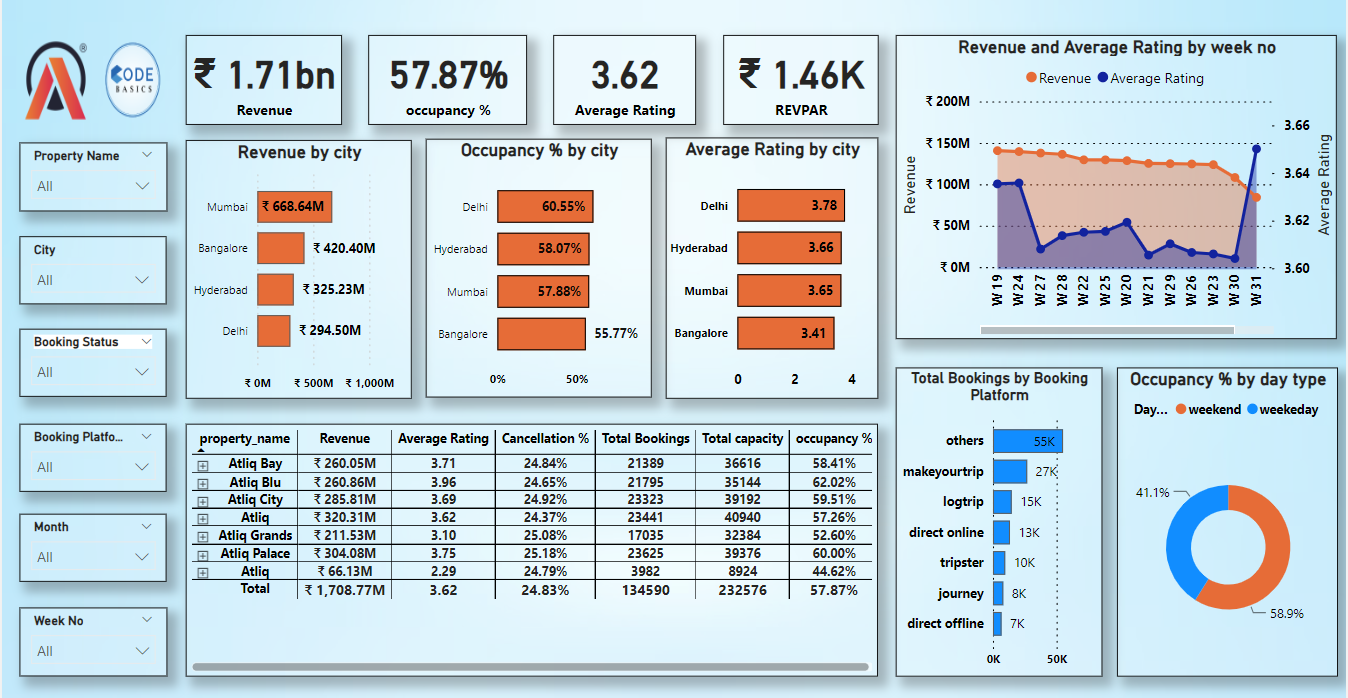

The dashboard page shown, as its layout file describes it:
{"tool":"powerbi","page":{"name":"Page 1","canvas":[1280,720],"ordinal":0},"visuals":[{"type":"card","fields":{"Values":["Key_measure.Revenue"]},"box":[175,57.1,148.8,85.7],"z":1000},{"type":"card","fields":{"Values":["Key_measure.occupancy%"]},"box":[348.8,57.1,151.2,85.7],"z":2000},{"type":"card","fields":{"Values":["Key_measure.Average Rating"]},"box":[525,57.1,135.7,85.7],"z":3000},{"type":"clusteredBarChart","fields":{"Y":["Key_measure.Revenue"],"Category":["dim_hotels.city"]},"box":[175,157.1,215.5,246.4],"z":4000},{"type":"areaChart","fields":{"Category":["dim_date.week no"],"Y":["Key_measure.Revenue"],"Y2":["Key_measure.Average Rating"]},"box":[851.2,57.1,420.2,289.3],"z":5000},{"type":"pivotTable","fields":{"Rows":["dim_hotels.property_name","dim_hotels.city"],"Values":["Key_measure.Revenue","Key_measure.Average Rating","Key_measure.Cancellation %","Key_measure.Total Bookings","Key_measure.Total capacity","Key_measure.occupancy%"]},"box":[175,427.4,659.5,240.5],"z":6000},{"type":"clusteredBarChart","title":"Total Bookings by Booking Platform","fields":{"Y":["Key_measure.Total Bookings"],"Category":["fact_bookings.booking_platform"]},"box":[851.2,373.8,196.4,294],"z":7000},{"type":"donutChart","title":"Occupancy % by day type","fields":{"Category":["dim_date.day_type"],"Y":["Key_measure.occupancy%"]},"box":[1061.9,373.8,210.7,294],"z":8000},{"type":"slicer","fields":{"Values":["dim_hotels.property_name"]},"box":[16.7,159.5,140.5,65.5],"z":9000},{"type":"slicer","fields":{"Values":["dim_hotels.city"]},"box":[16.7,248.8,140,65],"z":10000},{"type":"slicer","fields":{"Values":["fact_bookings.booking_status"]},"box":[16.7,336.9,140,65],"z":11000},{"type":"slicer","fields":{"Values":["fact_bookings.booking_platform"]},"box":[16.7,427.4,140,65],"z":12000},{"type":"slicer","fields":{"Values":["dim_date.mmm yy.Variation.Date Hierarchy.Month"]},"box":[16.7,513.1,140,65],"z":13000},{"type":"slicer","fields":{"Values":["dim_date.week no"]},"box":[16.7,602.4,140.5,65.5],"z":14000},{"type":"image","box":[16.7,57.1,70.2,85.7],"z":15000},{"type":"image","box":[91.7,57.1,65.5,85.7],"z":16000},{"type":"clusteredBarChart","title":"Occupancy % by city","fields":{"Category":["dim_hotels.city"],"Y":["Key_measure.occupancy%"]},"box":[403.6,156,215.5,246.4],"z":17000},{"type":"clusteredBarChart","fields":{"Category":["dim_hotels.city"],"Y":["Key_measure.Average Rating"]},"box":[632.1,154.8,202.4,248.8],"z":18000},{"type":"card","fields":{"Values":["Key_measure.REVPAR"]},"box":[686.9,57.1,147.6,85.7],"z":19000}]}

Visuals, with their boxes on the page's 1280x720 design canvas (x1, y1, x2, y2). These are canvas units, not pixel positions in the 1348x698 screenshot, which may show the page scaled, cropped or inside an application window:
card - Key_measure.Revenue: (left=175, top=57, right=324, bottom=143)
card - Key_measure.occupancy%: (left=349, top=57, right=500, bottom=143)
card - Key_measure.Average Rating: (left=525, top=57, right=661, bottom=143)
clusteredBarChart - Key_measure.Revenue x dim_hotels.city: (left=175, top=157, right=390, bottom=404)
areaChart - dim_date.week no x Key_measure.Revenue: (left=851, top=57, right=1271, bottom=346)
pivotTable - dim_hotels.property_name x dim_hotels.city: (left=175, top=427, right=834, bottom=668)
"Total Bookings by Booking Platform" clusteredBarChart: (left=851, top=374, right=1048, bottom=668)
"Occupancy % by day type" donutChart: (left=1062, top=374, right=1273, bottom=668)
slicer - dim_hotels.property_name: (left=17, top=160, right=157, bottom=225)
slicer - dim_hotels.city: (left=17, top=249, right=157, bottom=314)
slicer - fact_bookings.booking_status: (left=17, top=337, right=157, bottom=402)
slicer - fact_bookings.booking_platform: (left=17, top=427, right=157, bottom=492)
slicer - dim_date.mmm yy.Variation.Date Hierarchy.Month: (left=17, top=513, right=157, bottom=578)
slicer - dim_date.week no: (left=17, top=602, right=157, bottom=668)
image: (left=17, top=57, right=87, bottom=143)
image: (left=92, top=57, right=157, bottom=143)
"Occupancy % by city" clusteredBarChart: (left=404, top=156, right=619, bottom=402)
clusteredBarChart - dim_hotels.city x Key_measure.Average Rating: (left=632, top=155, right=834, bottom=404)
card - Key_measure.REVPAR: (left=687, top=57, right=834, bottom=143)
